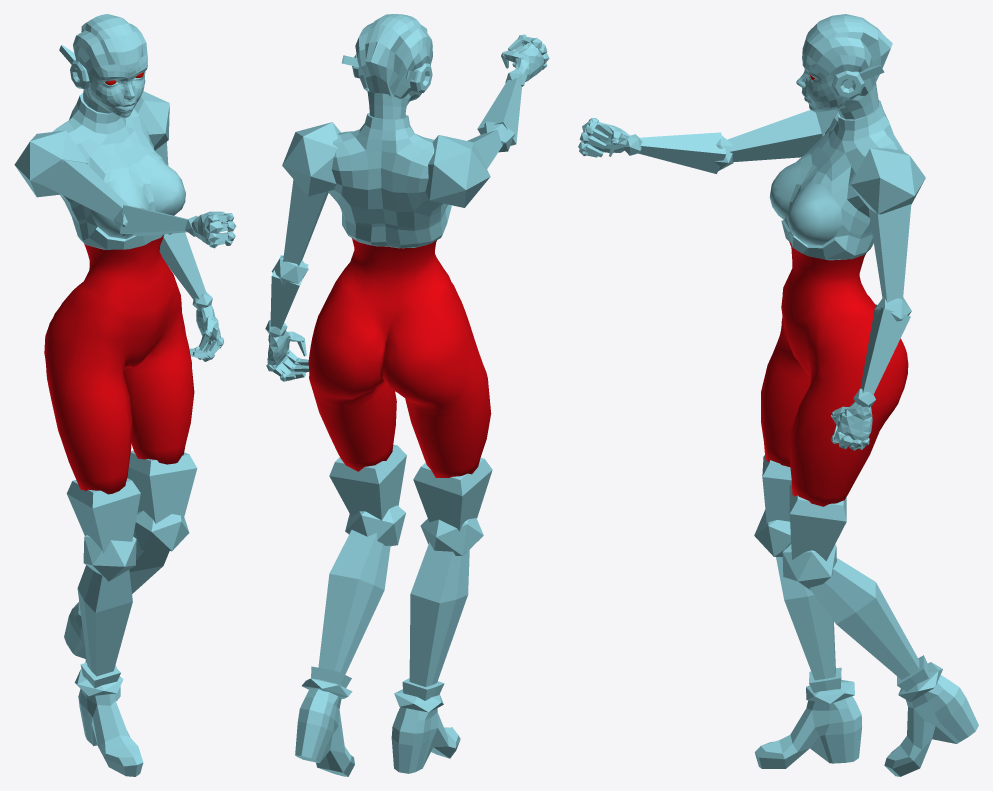
File: Caroline_spawn_pose.fbx
3 views of the same model, side by side, from view 1: azimuth 30°, elevation 25°; view 2: azimuth 150°, elevation 25°; view 3: azimuth 270°, elevation 25° (orthographic). The views are drawn at different scales.
Parts seen in each view (by area): view 1: Caroline_spawn_pose; view 2: Caroline_spawn_pose; view 3: Caroline_spawn_pose.
Part boxes in pixels (x1,y1,x2,y2): Caroline_spawn_pose: (14, 14, 236, 776); Caroline_spawn_pose: (265, 14, 549, 776); Caroline_spawn_pose: (578, 14, 978, 776).
Size of the model in its own units: 71.02 by 245 by 118.
